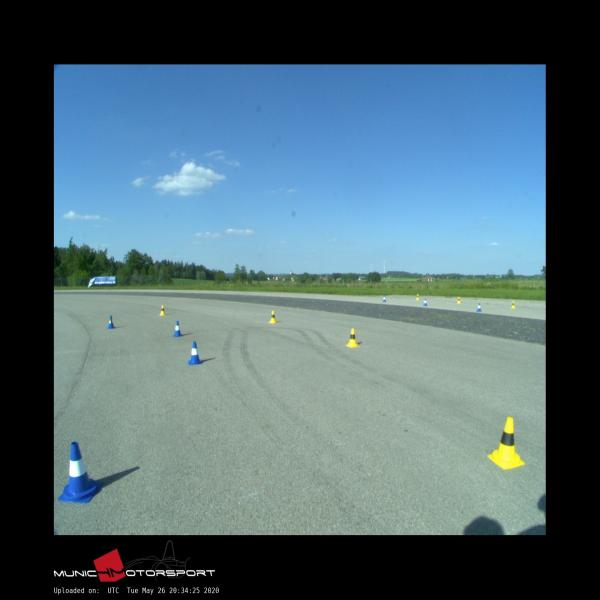blue_cone: (59, 442, 102, 503), (188, 342, 202, 365), (173, 322, 182, 336), (107, 316, 115, 328), (476, 303, 482, 311), (423, 298, 428, 306), (383, 295, 386, 302)
yellow_cone: (488, 417, 524, 468), (346, 328, 359, 347), (268, 311, 277, 323), (159, 305, 165, 315), (456, 296, 460, 304), (512, 301, 516, 308), (416, 294, 419, 300)
